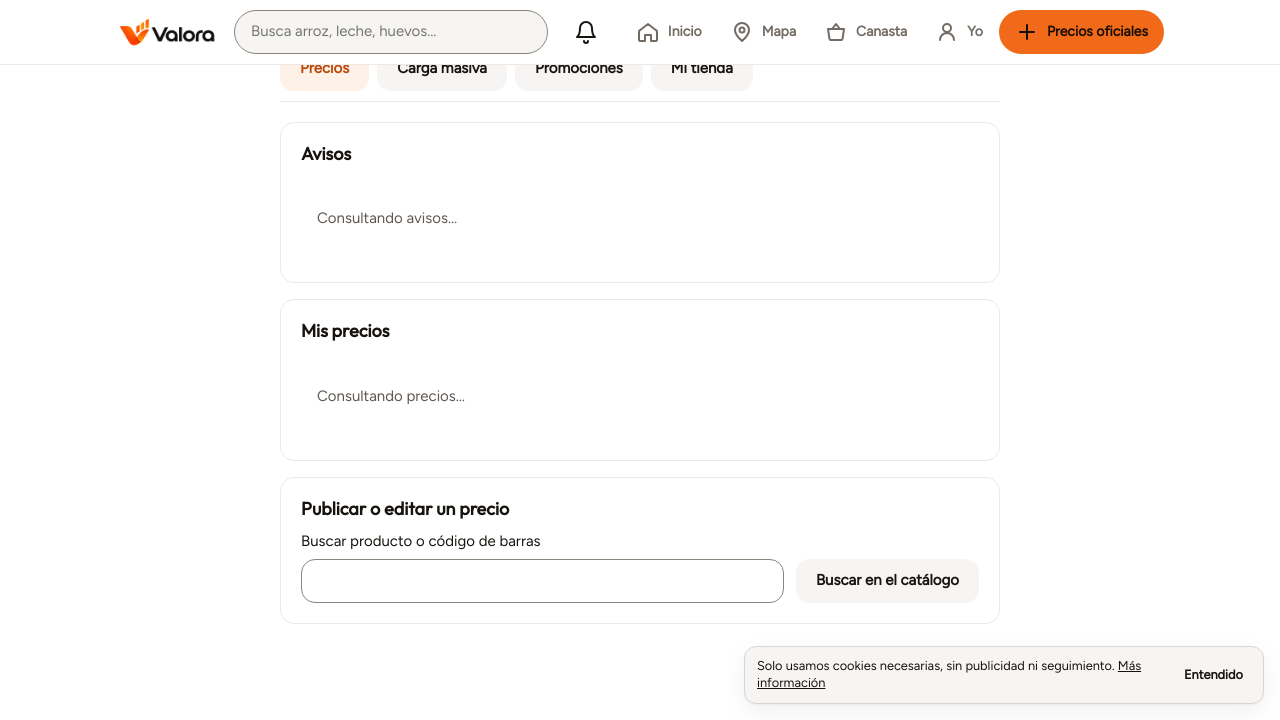
Scenario: panel de precios oficiales (#166) › anuncia cuántos resultados dio la búsqueda de productos
The width and height of the screenshot is (1280, 720).
(page scrolled)
Type "Arroz" into the search field labelled "Buscar producto o código de barras".
click(542, 581); type("Arroz")  # box [301,559,784,603]
(page scrolled)
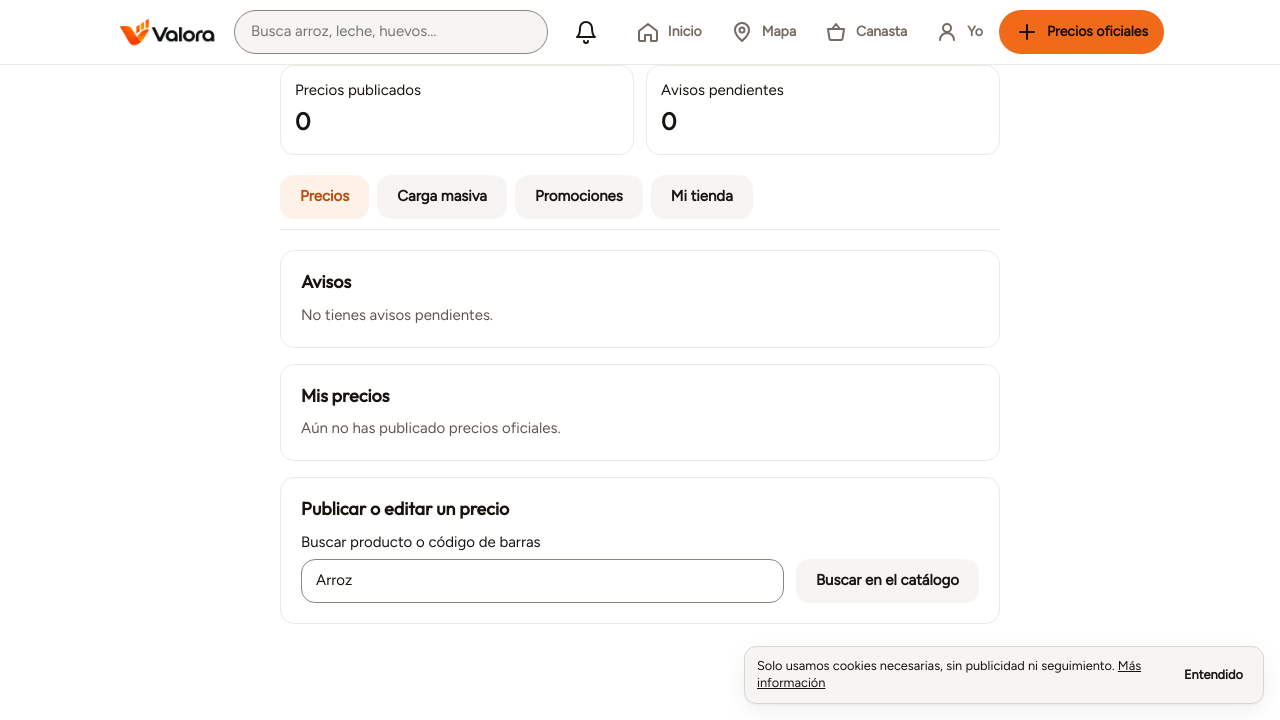
Click the button "Buscar en el catálogo".
click(887, 581)  # box [796,559,979,603]
(page scrolled)
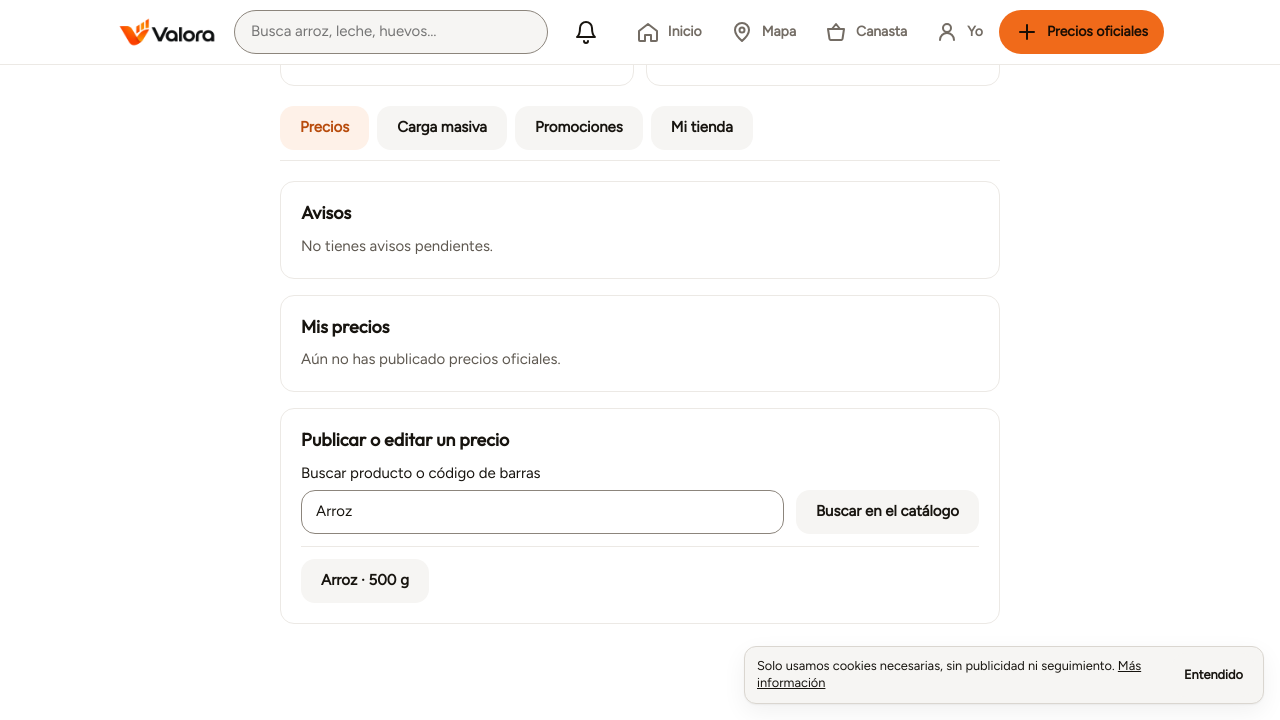
Expected: the button "Arroz · 500 g" is shown, [301,559,429,603]
